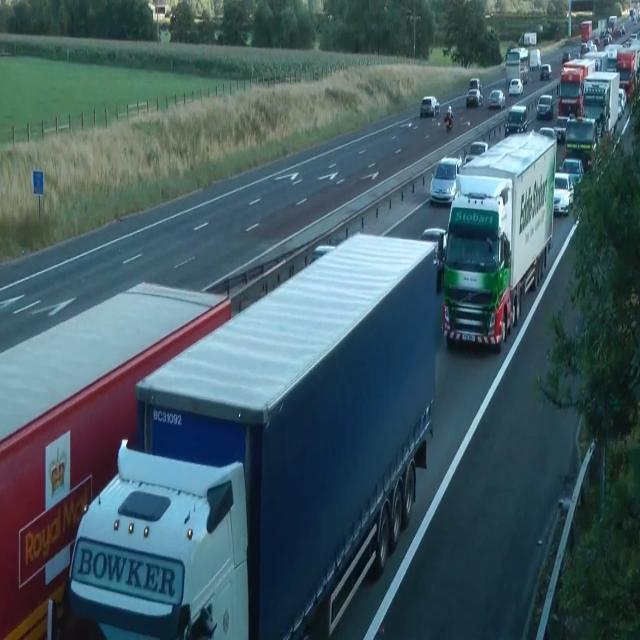bus: (419, 228, 447, 290), (429, 156, 462, 203), (552, 172, 574, 216), (504, 105, 528, 137), (558, 157, 584, 186), (462, 141, 488, 167), (553, 114, 576, 143), (311, 244, 335, 263), (536, 93, 553, 119), (420, 95, 440, 117), (487, 89, 505, 109), (465, 88, 483, 108), (604, 44, 622, 62), (538, 126, 556, 142), (579, 41, 597, 57), (618, 87, 626, 119), (509, 78, 523, 96), (469, 78, 483, 94), (540, 63, 552, 80), (520, 65, 528, 83), (562, 51, 570, 65), (484, 12, 492, 18)
car: (58, 230, 438, 638), (0, 279, 232, 638)
jeep: (61, 436, 250, 638)
lorry: (445, 113, 453, 132)
minibus: (438, 128, 557, 350), (580, 70, 620, 140), (562, 115, 598, 172), (518, 31, 537, 46)
